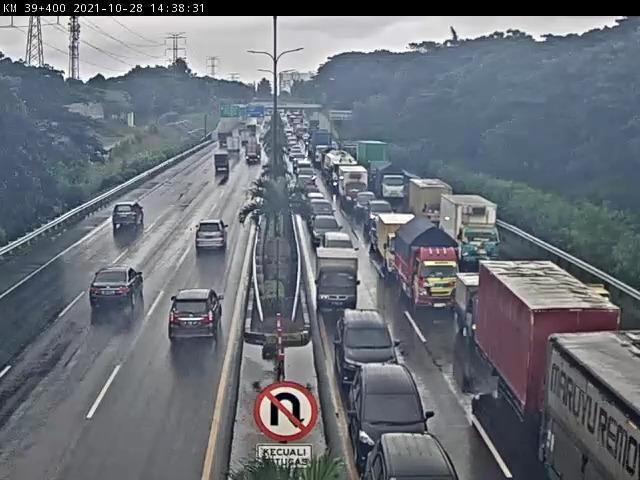car: (354, 368, 433, 440), (371, 435, 456, 480), (173, 292, 234, 351), (337, 311, 395, 368), (87, 262, 144, 308), (317, 254, 362, 310), (106, 205, 144, 237), (193, 221, 229, 250), (321, 236, 354, 256), (316, 218, 343, 240), (376, 210, 399, 230), (310, 207, 336, 224), (365, 200, 382, 218), (302, 193, 318, 205), (300, 179, 314, 192), (298, 170, 316, 180), (308, 198, 323, 209), (296, 165, 312, 174), (297, 154, 309, 165), (313, 188, 314, 190), (309, 163, 310, 164), (325, 203, 326, 204)
truck: (477, 262, 602, 421), (549, 336, 640, 480), (405, 234, 462, 313), (448, 198, 500, 265), (459, 279, 487, 347), (380, 216, 407, 270), (411, 180, 444, 224), (345, 173, 374, 209), (384, 168, 410, 203), (328, 150, 350, 190), (363, 144, 388, 179), (313, 131, 334, 163), (246, 139, 265, 165), (212, 154, 232, 177), (240, 128, 255, 151), (226, 138, 241, 156), (260, 127, 271, 144), (219, 129, 231, 142), (254, 116, 264, 127)
